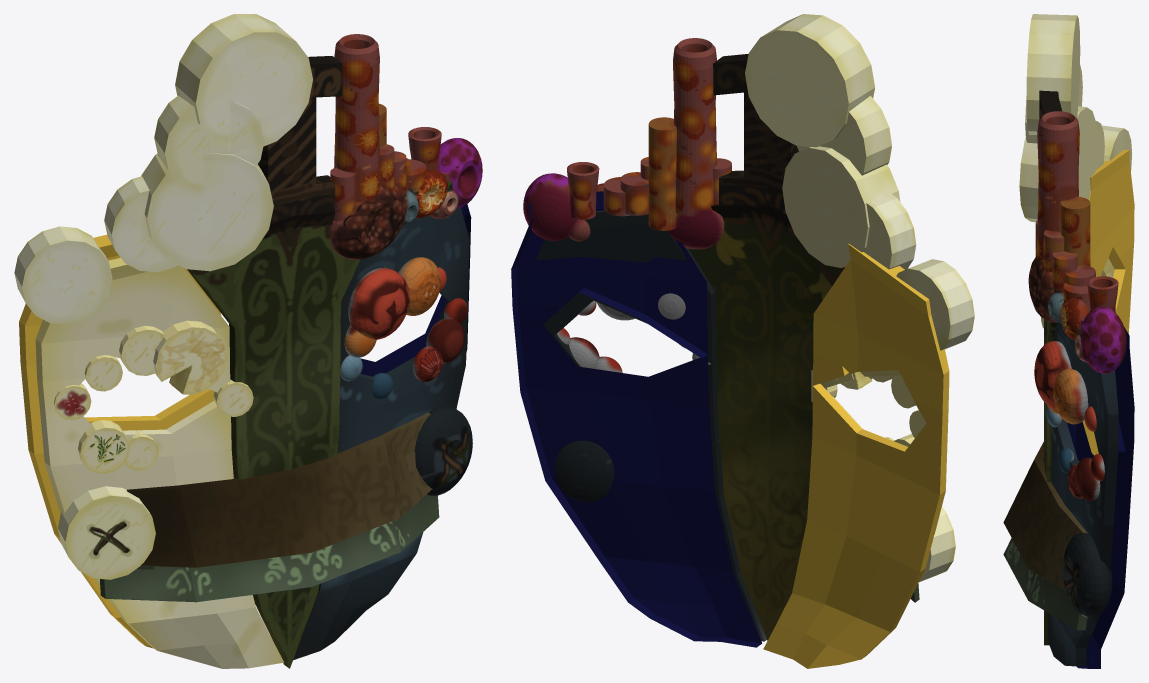
The model's file is Mask.fbx.
3 views of the same model, side by side, from view 1: azimuth 30°, elevation 25°; view 2: azimuth 150°, elevation 25°; view 3: azimuth 270°, elevation 25° (orthographic). The views are drawn at different scales.
Parts seen in each view (by area): view 1: CheeseTop, Cube, CheeseSide, MouthTop, CoralTop, CoralSide, CheeseEye, MouthBottom, CoralEye, CheeseMouth, CheeseSideBack, CoralMouth (+1 smaller); view 2: CoralSideBack, CheeseSideBack, Cube, CheeseTop, CoralTop, CoralSide, CoralMouth, CoralEye, CheeseEye, CheeseMouth; view 3: CoralTop, CheeseTop, CoralSide, CheeseSideBack, CoralSideBack, MouthTop, CoralEye, CoralMouth, MouthBottom, Cube.
Part boxes in pixels (left/top/right/bottom): CheeseTop: left=14, top=14, right=312, bottom=324; Cube: left=187, top=56, right=360, bottom=668; CheeseSide: left=35, top=257, right=284, bottom=668; MouthTop: left=127, top=412, right=432, bottom=567; CoralTop: left=330, top=34, right=482, bottom=259; CoralSide: left=293, top=207, right=469, bottom=660; CheeseEye: left=54, top=320, right=253, bottom=473; MouthBottom: left=99, top=494, right=439, bottom=602; CoralEye: left=340, top=257, right=467, bottom=399; CheeseMouth: left=58, top=486, right=155, bottom=579; CheeseSideBack: left=19, top=234, right=221, bottom=648; CoralMouth: left=414, top=406, right=472, bottom=495; CoralSideBack: left=511, top=191, right=762, bottom=647; CheeseSideBack: left=763, top=243, right=949, bottom=668; Cube: left=689, top=54, right=844, bottom=640; CheeseTop: left=745, top=14, right=974, bottom=350; CoralTop: left=523, top=38, right=731, bottom=249; CoralSide: left=536, top=210, right=766, bottom=641; CoralMouth: left=555, top=440, right=614, bottom=502; CoralEye: left=557, top=293, right=710, bottom=372; CheeseEye: left=811, top=370, right=926, bottom=446; CheeseMouth: left=918, top=507, right=955, bottom=582; CoralTop: left=1028, top=111, right=1126, bottom=373; CheeseTop: left=1019, top=14, right=1132, bottom=222; CoralSide: left=1048, top=322, right=1118, bottom=666; CheeseSideBack: left=1082, top=150, right=1134, bottom=455; CoralSideBack: left=1067, top=312, right=1134, bottom=668; MouthTop: left=1003, top=442, right=1087, bottom=591; CoralEye: left=1034, top=341, right=1104, bottom=500; CoralMouth: left=1062, top=532, right=1112, bottom=618; MouthBottom: left=1003, top=538, right=1087, bottom=630; Cube: left=1039, top=90, right=1061, bottom=645.
Size of the model in its own units: 1425 by 1927 by 378.
13 materials, 11 textured.
